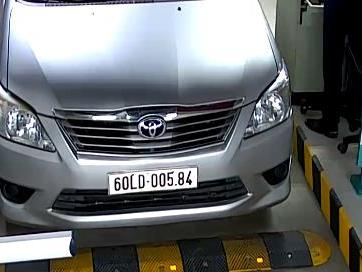number: (109, 164, 198, 195)
